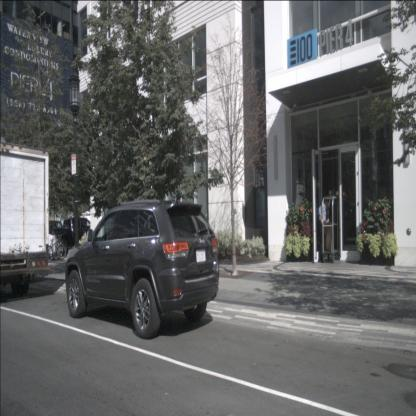human-pedestrian-adult: (318, 200, 330, 262)
vehicle-bicycle: (43, 234, 66, 262)
vehicle-car: (65, 200, 220, 339)
vehicle-truck: (1, 141, 52, 296), (50, 218, 96, 252), (39, 220, 70, 246)
